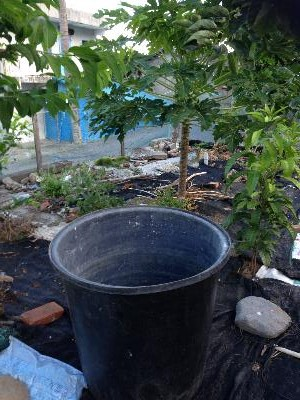bucket: (46, 205, 231, 398)
